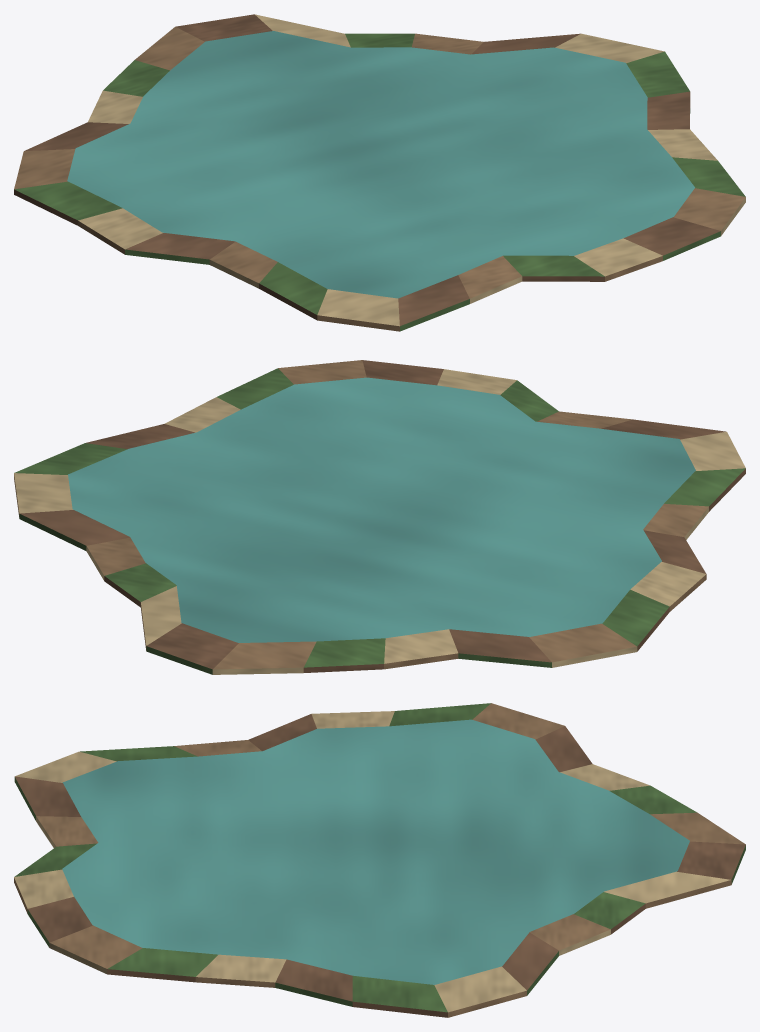
The model's file is pond_L.fbx.
The picture shows the model from 3 angles, top to bottom: view 1: azimuth 30°, elevation 25°; view 2: azimuth 150°, elevation 25°; view 3: azimuth 270°, elevation 25°; orthographic projection. The views are drawn at different scales.
Visible parts, largest first — view 1: pond_L; view 2: pond_L; view 3: pond_L.
Part boxes in pixels (x1,y1,x2,y2): pond_L: [14, 14, 745, 331]; pond_L: [14, 360, 745, 674]; pond_L: [14, 703, 745, 1017].
Bounding box in the file's own units: 4000 × 62 × 4000.
2 materials, 2 textured.
